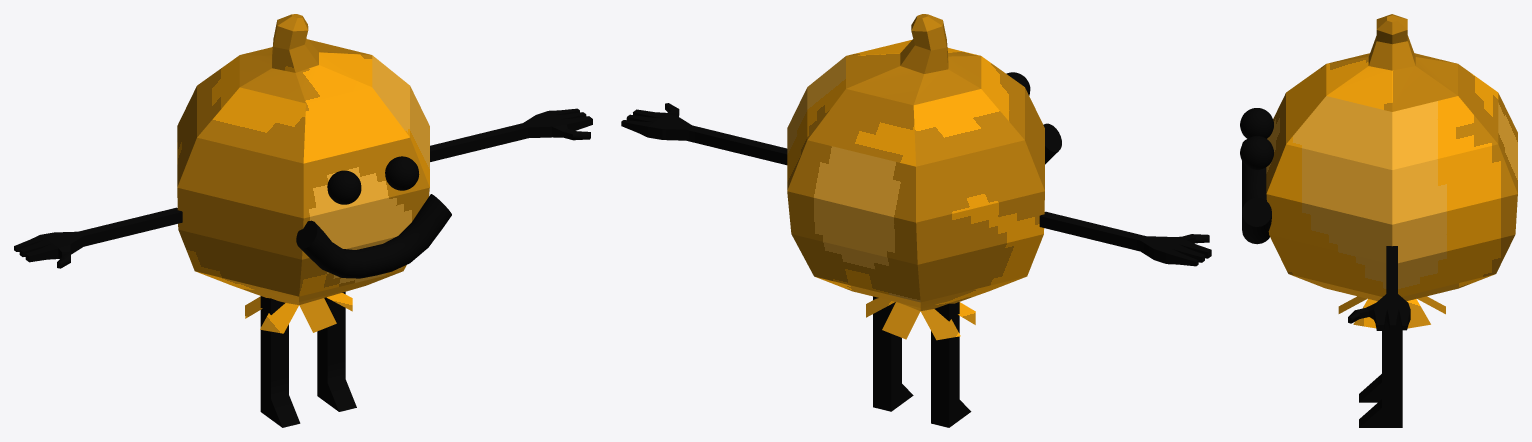
Rendered from OnionSan.glb.
The picture shows the model from 3 angles, left to right: view 1: azimuth 30°, elevation 25°; view 2: azimuth 150°, elevation 25°; view 3: azimuth 270°, elevation 25°; orthographic projection. The views are drawn at different scales.
Visible parts, largest first — view 1: Mesh_4, Mesh_7, Mesh_0, Mesh_1, Mesh_3, Mesh_2, Mesh_5, Mesh_6; view 2: Mesh_4, Mesh_1, Mesh_0, Mesh_3, Mesh_2; view 3: Mesh_4, Mesh_2, Mesh_7, Mesh_0, Mesh_6, Mesh_5, Mesh_3.
Part boxes in pixels (x1,y1,x2,y2): Mesh_4: [177, 14, 429, 333]; Mesh_7: [296, 194, 451, 278]; Mesh_0: [430, 108, 592, 161]; Mesh_1: [14, 207, 182, 268]; Mesh_3: [260, 296, 300, 427]; Mesh_2: [317, 292, 356, 411]; Mesh_5: [327, 170, 361, 204]; Mesh_6: [385, 156, 419, 190]; Mesh_4: [787, 14, 1044, 340]; Mesh_1: [1039, 211, 1211, 266]; Mesh_0: [621, 103, 787, 165]; Mesh_3: [931, 302, 971, 427]; Mesh_2: [873, 296, 913, 411]; Mesh_4: [1266, 14, 1517, 328]; Mesh_2: [1359, 320, 1402, 427]; Mesh_7: [1242, 139, 1271, 244]; Mesh_0: [1348, 246, 1410, 330]; Mesh_6: [1240, 136, 1273, 169]; Mesh_5: [1240, 108, 1273, 138]; Mesh_3: [1359, 374, 1381, 402].
Size of the model in its own units: 220 by 147 by 94.57.
2 materials, 1 textured.
